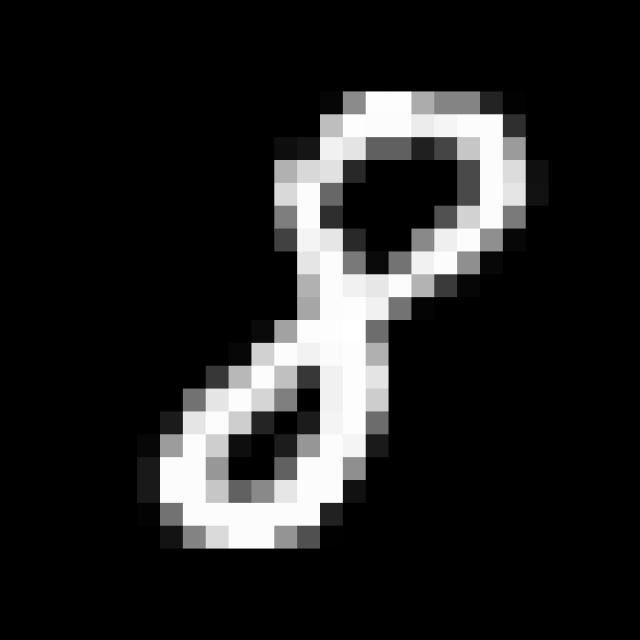eight -8-: (155, 89, 544, 559)
